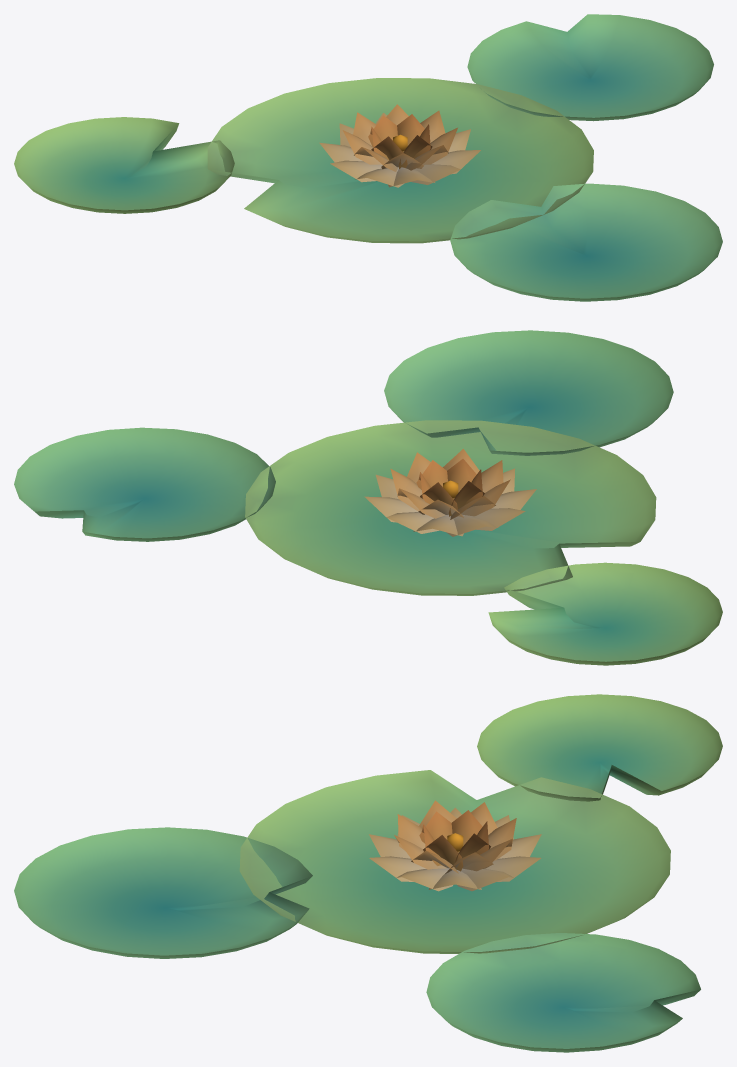
Rendered from verdant_ground_lily_flower.glb.
The picture shows the model from 3 angles, top to bottom: view 1: azimuth 30°, elevation 25°; view 2: azimuth 150°, elevation 25°; view 3: azimuth 270°, elevation 25°; orthographic projection. The views are drawn at different scales.
Parts seen in each view (by area): view 1: verdant_ground_lily_flower; view 2: verdant_ground_lily_flower; view 3: verdant_ground_lily_flower.
Boxes of the visible parts, bbox=[...] form: verdant_ground_lily_flower: bbox=[14, 14, 722, 301]; verdant_ground_lily_flower: bbox=[14, 330, 722, 665]; verdant_ground_lily_flower: bbox=[14, 694, 722, 1052].
Size of the model in its own units: 2.32 by 0.173 by 1.96.
